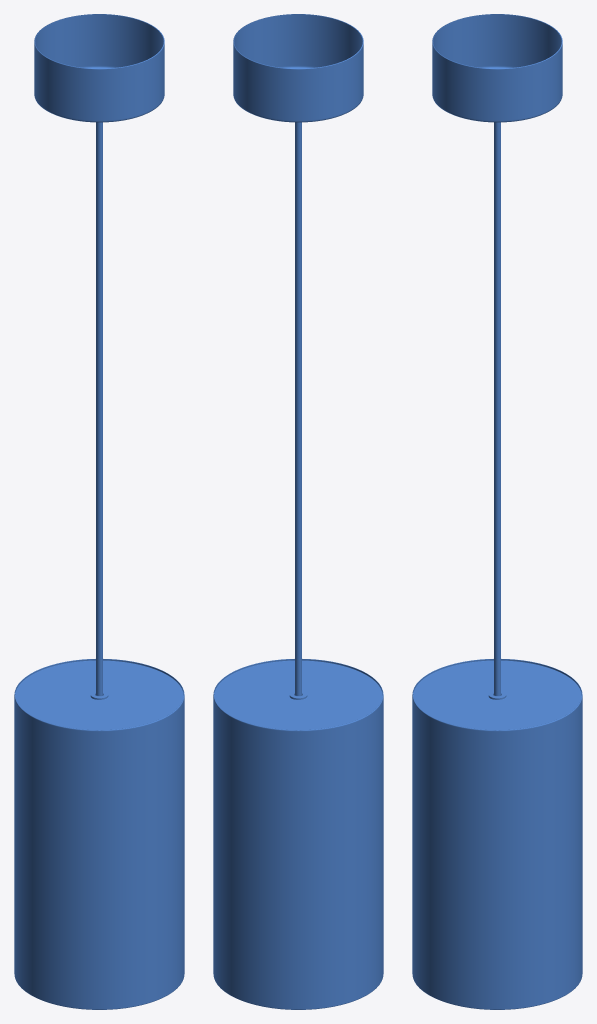
The model's file is SP-POLO-HANG-R85-15W vray 2015.obj.
3 renders of one model, left to right at view 1: azimuth 30°, elevation 25°; view 2: azimuth 150°, elevation 25°; view 3: azimuth 270°, elevation 25°, orthographic.
Parts seen in each view (by area): view 1: BodyLight, BasementPolo, CableWire; view 2: BodyLight, BasementPolo, CableWire; view 3: BodyLight, BasementPolo, CableWire.
Boxes of the visible parts, x1,y1,x2,y2 form: BodyLight: (14,659,184,1009); BasementPolo: (34,14,164,122); CableWire: (96,122,102,695); BodyLight: (213,659,383,1009); BasementPolo: (233,14,363,122); CableWire: (295,122,301,695); BodyLight: (412,659,582,1009); BasementPolo: (432,14,562,122); CableWire: (494,122,500,695).
Size of the model in its own units: 85 by 514 by 85.
